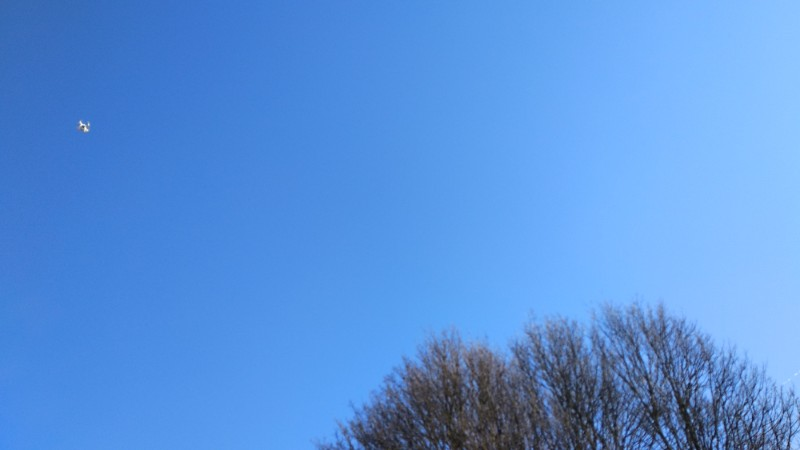drone: (73, 119, 92, 135)
